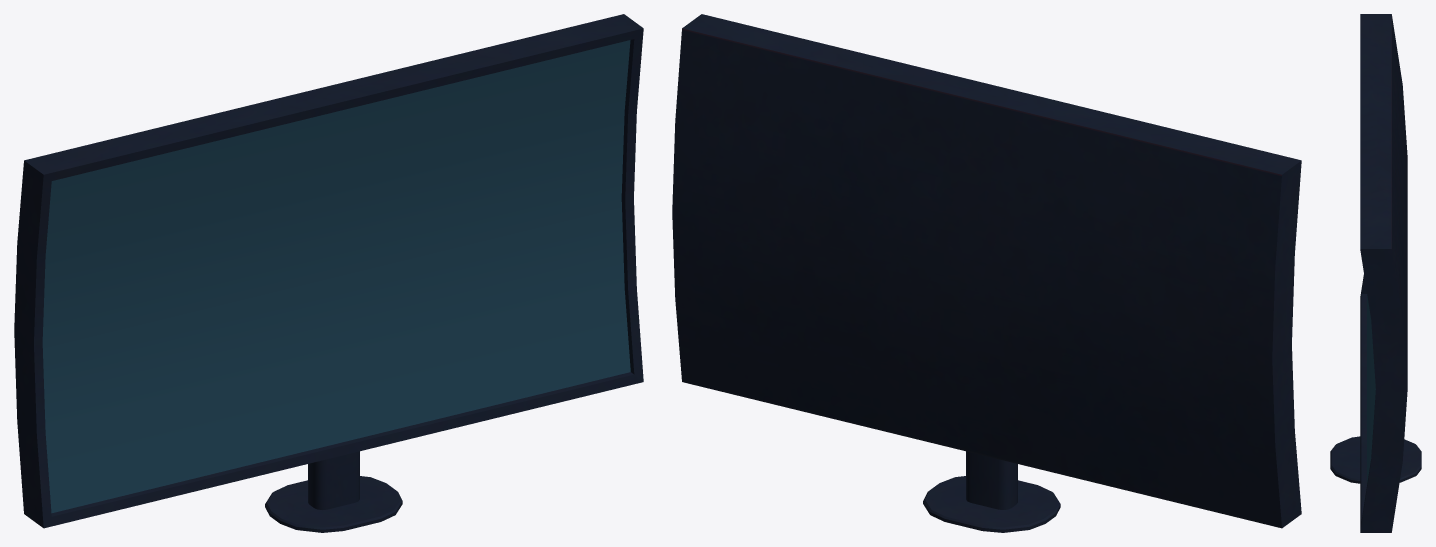
File: Computer .fbx
The picture shows the model from 3 angles, left to right: view 1: azimuth 30°, elevation 25°; view 2: azimuth 150°, elevation 25°; view 3: azimuth 270°, elevation 25°; orthographic projection. The views are drawn at different scales.
Visible parts, largest first — view 1: Computer; view 2: Computer; view 3: Computer.
Boxes of the visible parts, x1,y1,x2,y2 form: Computer: [14, 14, 643, 532]; Computer: [672, 14, 1301, 532]; Computer: [1330, 14, 1421, 532].
Size of the model in its own units: 71.62 by 46.9 by 11.79.
